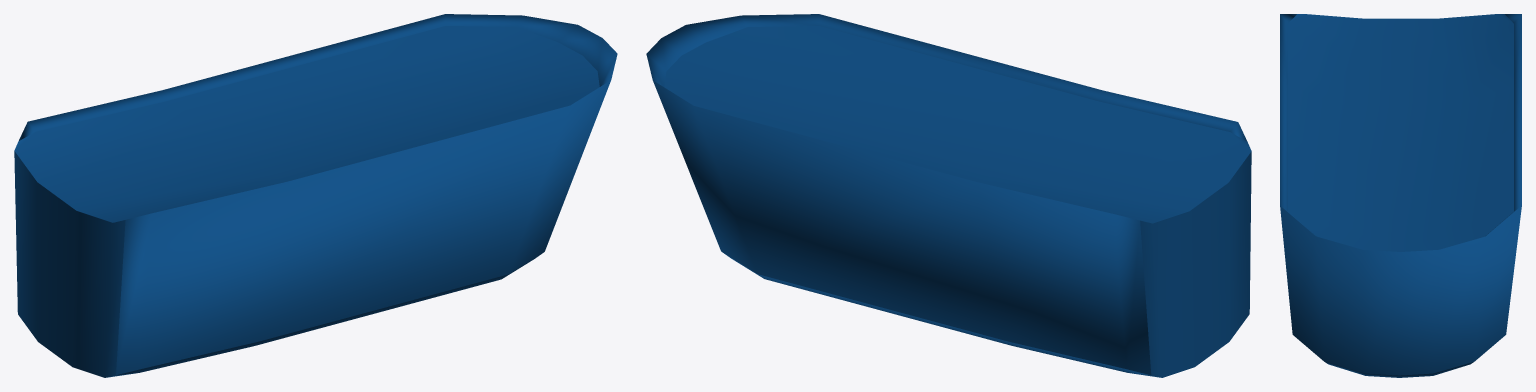
Rendered from bath tub water animation.fbx.
3 views of the same model, side by side, from view 1: azimuth 30°, elevation 25°; view 2: azimuth 150°, elevation 25°; view 3: azimuth 270°, elevation 25° (orthographic). The views are drawn at different scales.
Parts seen in each view (by area): view 1: defaultMaterial.001; view 2: defaultMaterial.001; view 3: defaultMaterial.001.
Boxes of the visible parts, left/top/right/bottom form: defaultMaterial.001: left=14, top=14, right=617, bottom=377; defaultMaterial.001: left=646, top=14, right=1251, bottom=377; defaultMaterial.001: left=1280, top=14, right=1521, bottom=377.
Bounding box in the file's own units: 52.07 × 42.23 × 132.
